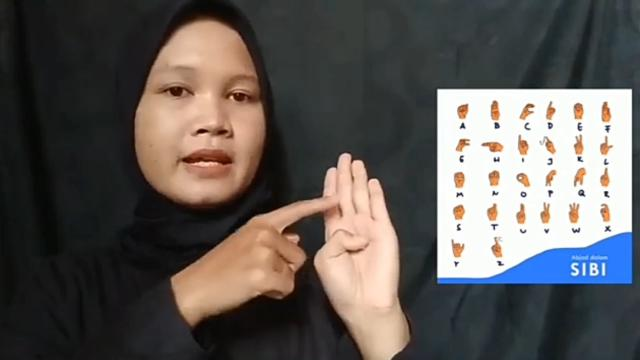B: (316, 152, 400, 320)
